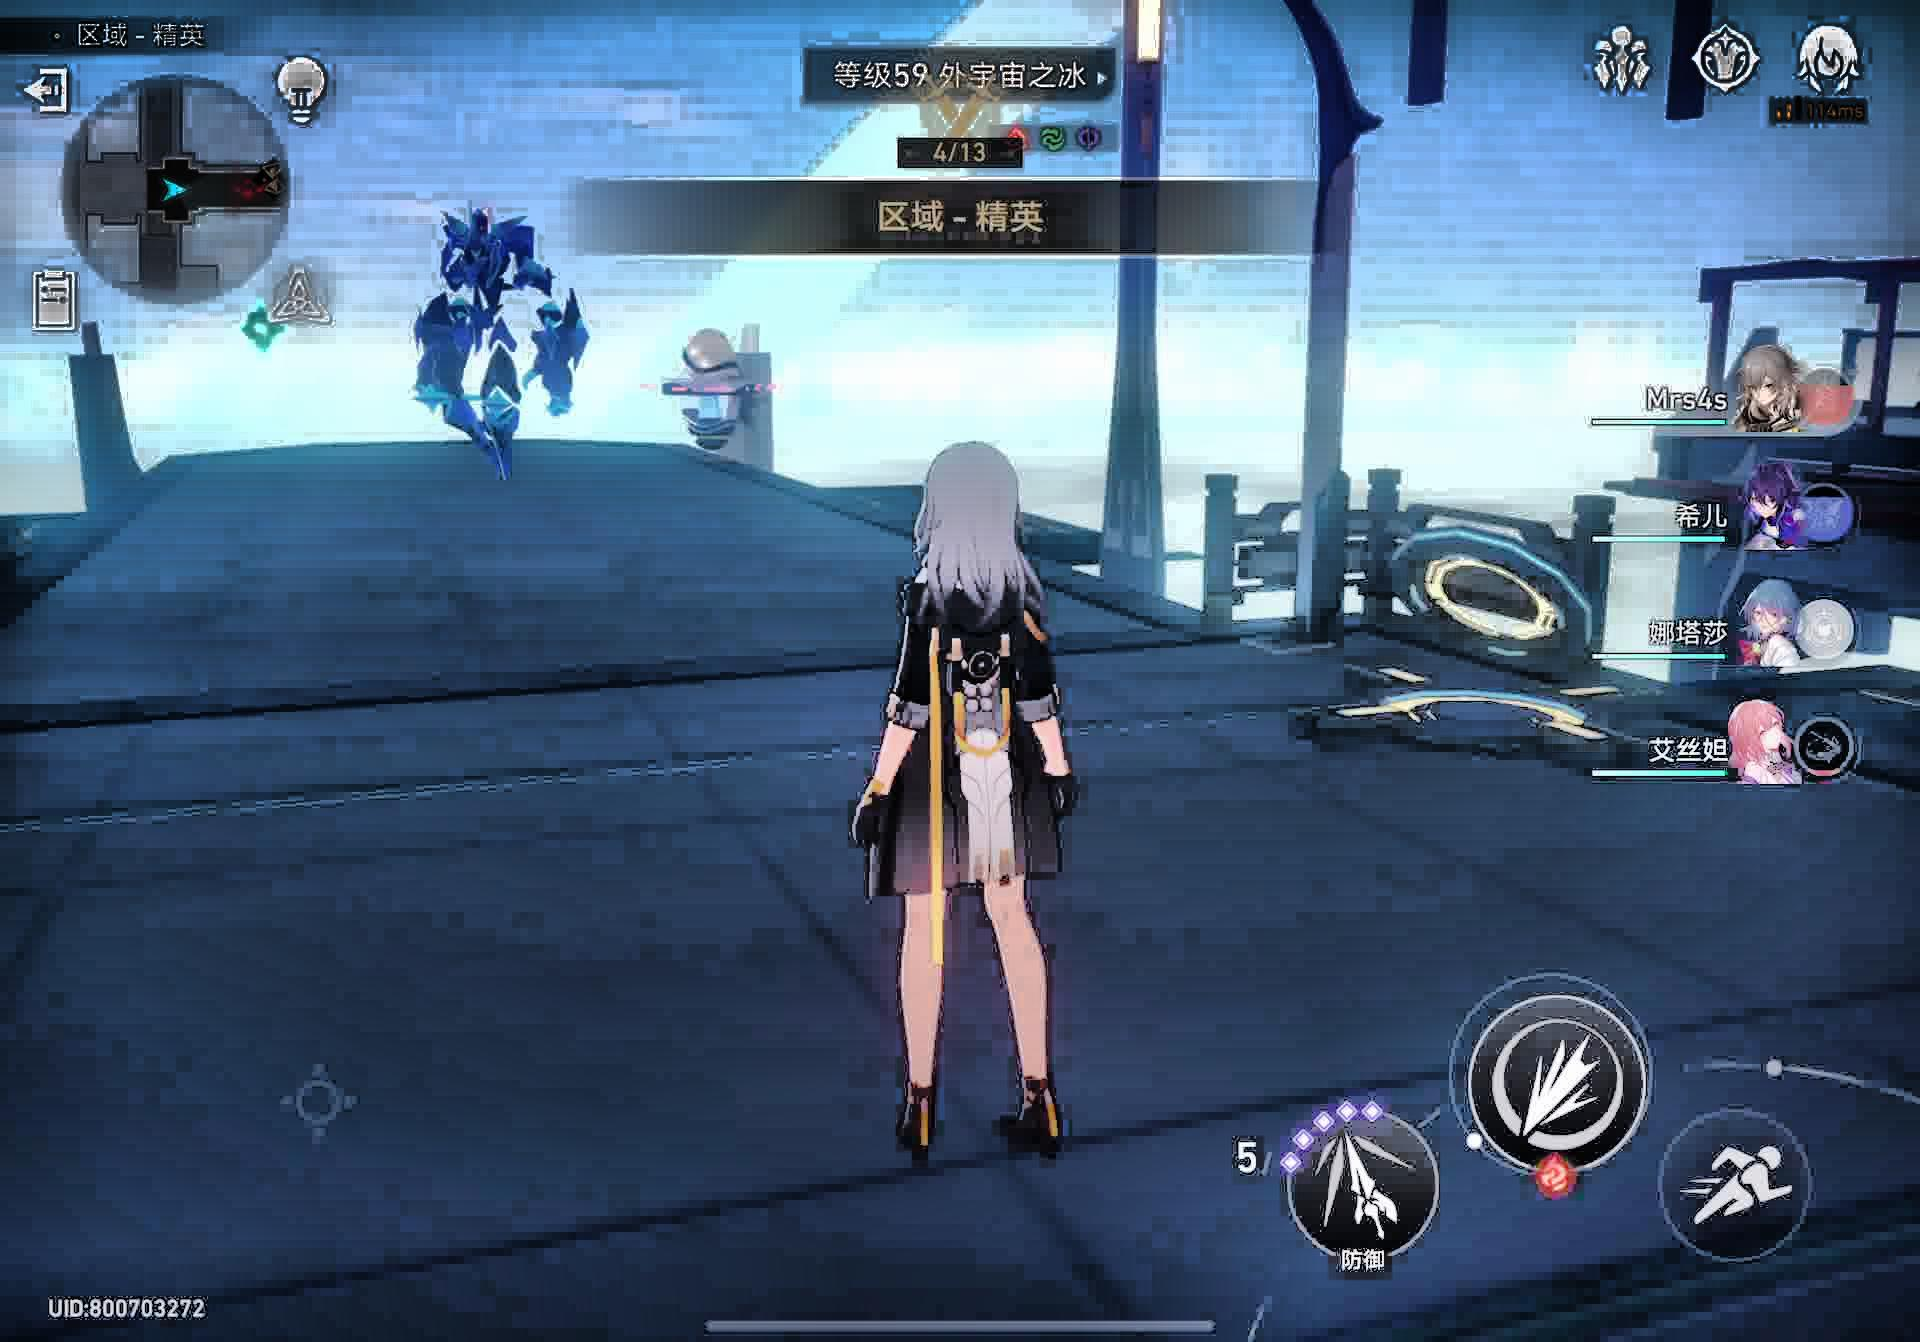Enemy: (414, 210, 587, 493)
SafeDoor: (232, 296, 292, 357)
Self: (853, 436, 1075, 1160)
